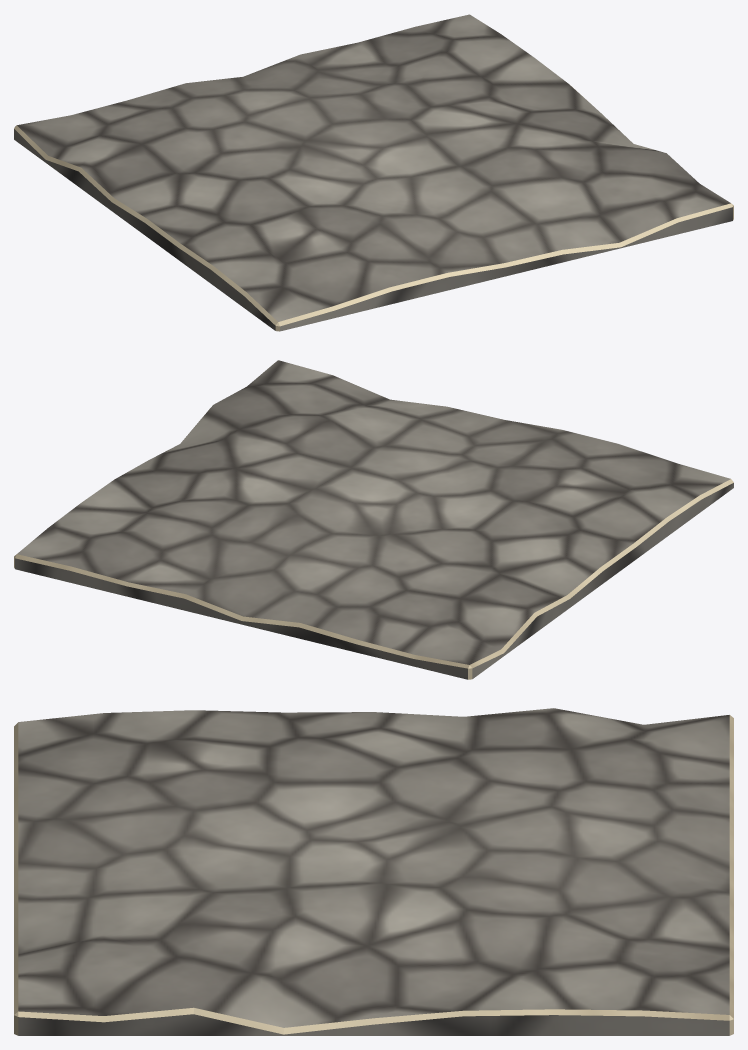
Rendered from Env_Path_Paved_2m.fbx.
3 renders of one model, top to bottom at view 1: azimuth 30°, elevation 25°; view 2: azimuth 150°, elevation 25°; view 3: azimuth 270°, elevation 25°, orthographic. The views are drawn at different scales.
Parts seen in each view (by area): view 1: Env_Path_Paved_2m; view 2: Env_Path_Paved_2m; view 3: Env_Path_Paved_2m.
Boxes of the visible parts, x1,y1,x2,y2 form: Env_Path_Paved_2m: [14, 14, 733, 331]; Env_Path_Paved_2m: [14, 360, 733, 679]; Env_Path_Paved_2m: [14, 708, 733, 1035].
Size of the model in its own units: 200 by 200 by 11.68.
